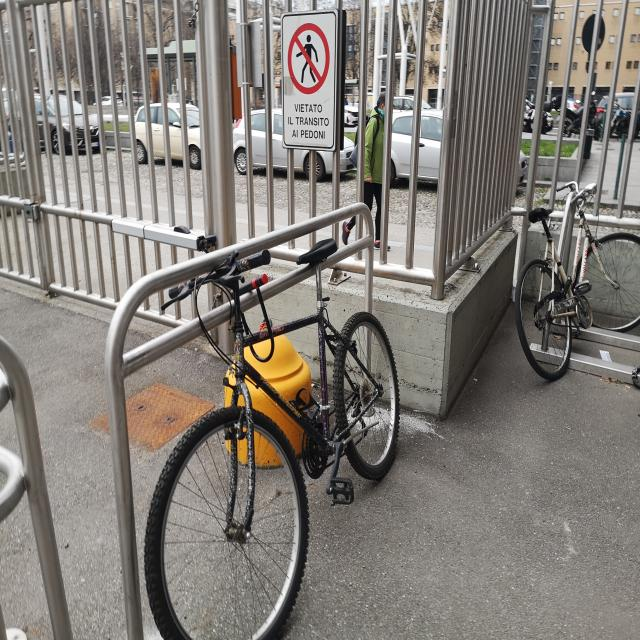Bicycle: (164, 237, 410, 631), (513, 182, 640, 395)
